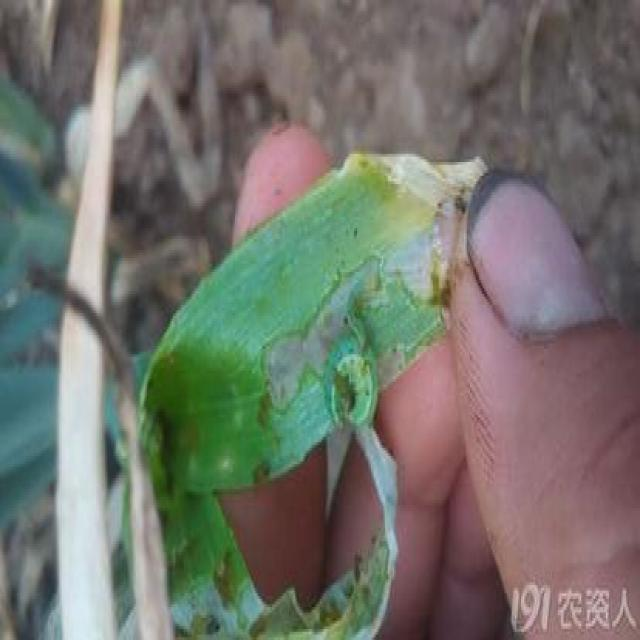armyworm: (319, 302, 377, 429)
